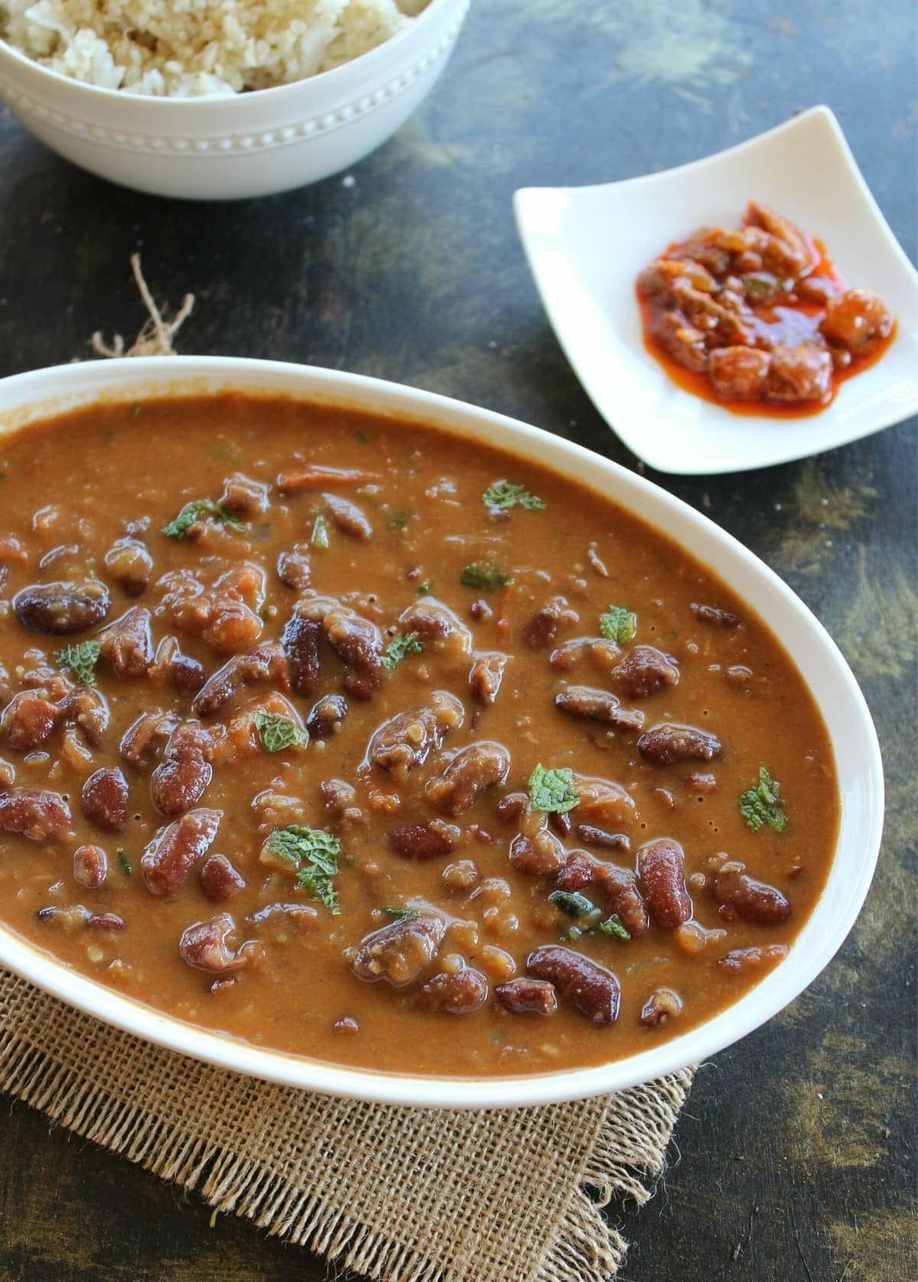RajmaCurry: (0, 384, 846, 1083)
